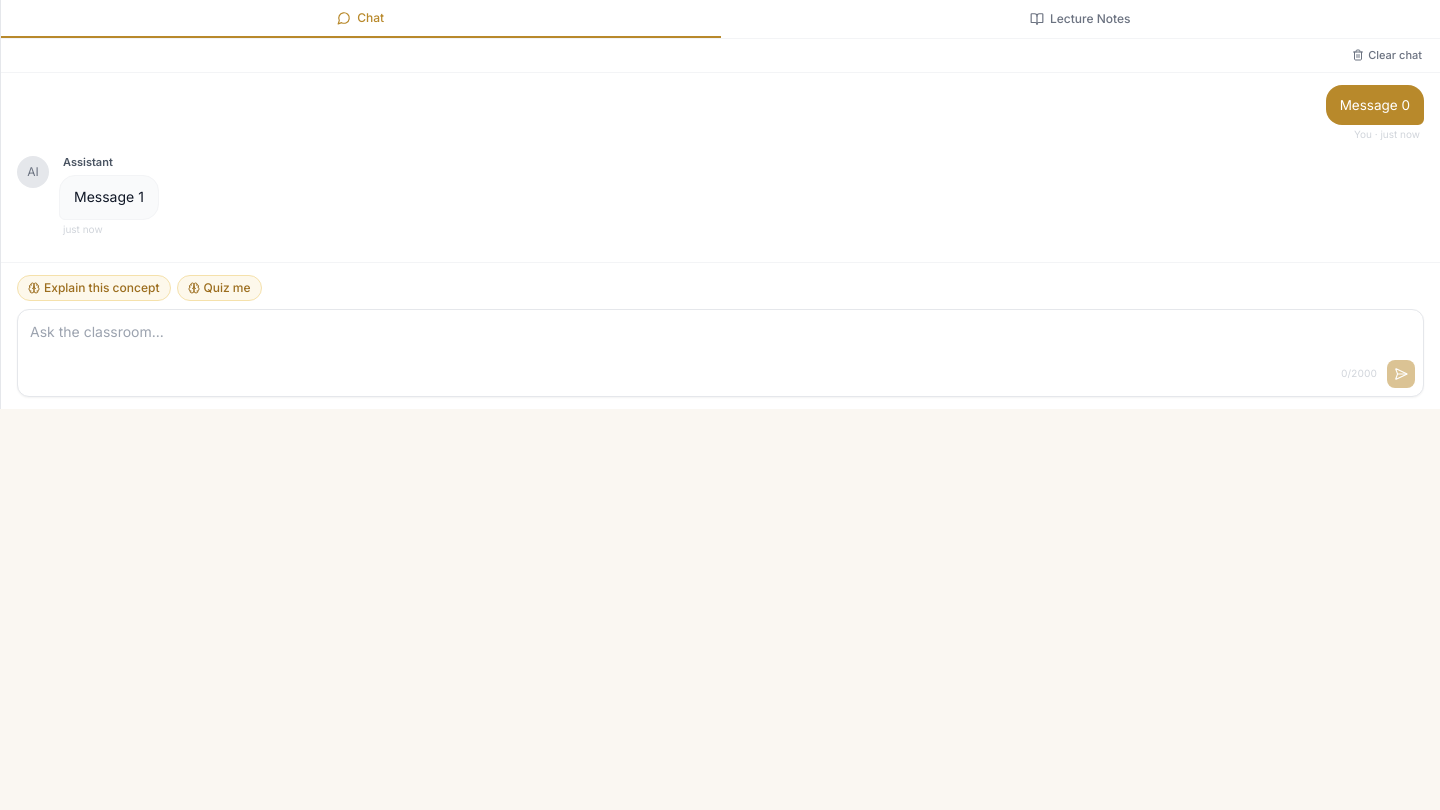
it: ChatPanel — clear-chat confirm path › opens the ConfirmDialog without clearing messages when "Clear chat" is clicked
The width and height of the screenshot is (1440, 810).
Click the button "Clear chat".
click(1387, 55)  # box top-left (1346, 45), bottom-right (1428, 66)
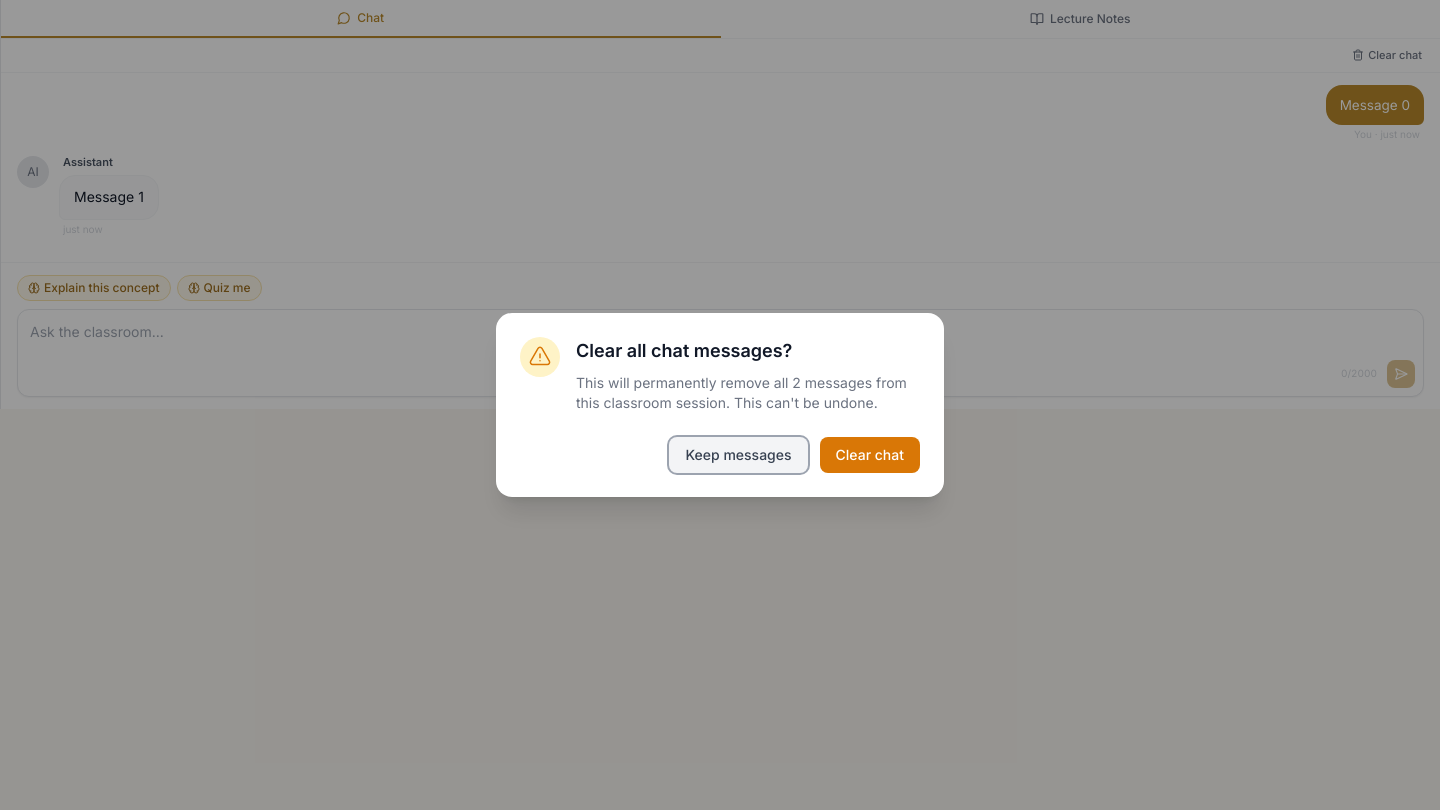
Check: the heading "Clear all chat messages?" is shown, box top-left (576, 340), bottom-right (792, 361)
